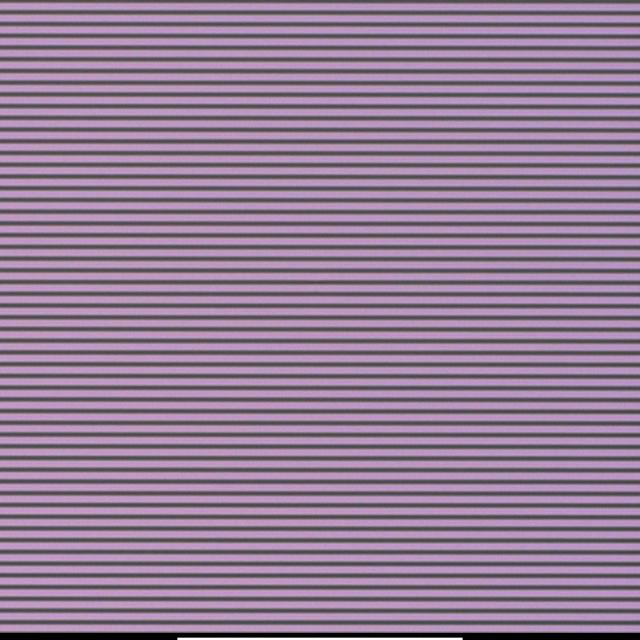03_intrusion: (312, 278, 323, 287)
